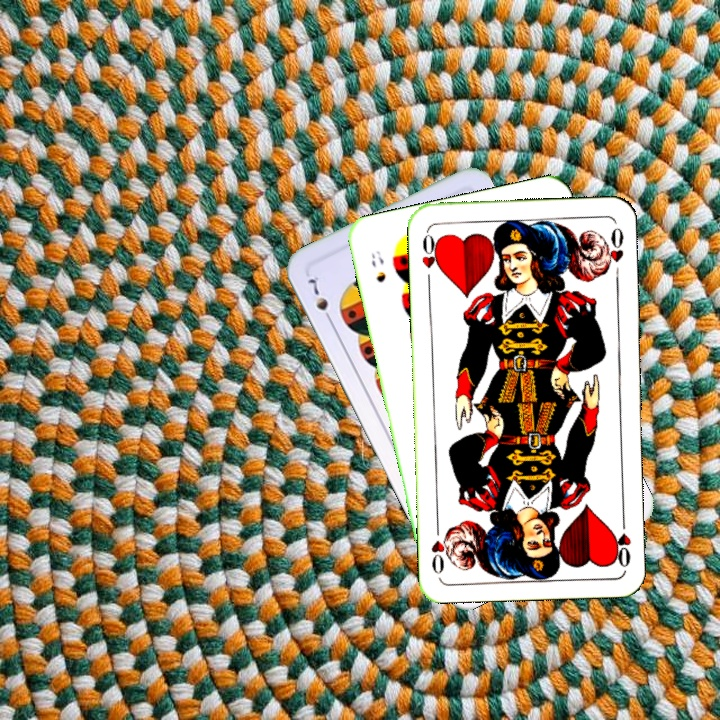HO: (417, 227, 443, 287), (610, 511, 634, 570)
S7: (303, 272, 336, 327)
S8: (367, 246, 389, 285)
